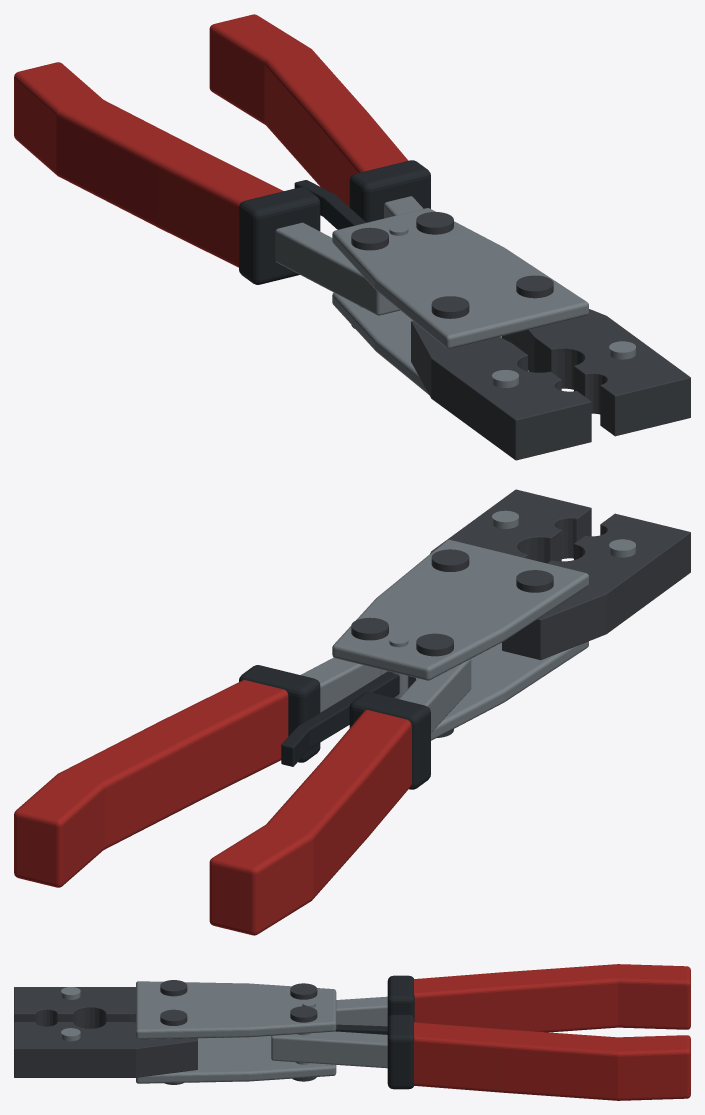
The model's file is full.glb.
3 renders of one model, top to bottom at view 1: azimuth 30°, elevation 25°; view 2: azimuth 150°, elevation 25°; view 3: azimuth 270°, elevation 25°, orthographic. The views are drawn at different scales.
Visible parts, largest first — view 1: Curved red grip -1, Curved red grip 1, Layered compound link cheek 0.009, Fixed two-profile die jaw -1, Fixed two-profile die jaw 1, Finger stop -1, Long metal handle -1, Finger stop 1, Layered compound link cheek -0.009, Narrow dark inner lever, Round pivot retaining head (0, 0.012), Round pivot retaining head (1, 0.012) (+2 smaller); view 2: Curved red grip 1, Curved red grip -1, Layered compound link cheek 0.009, Fixed two-profile die jaw -1, Fixed two-profile die jaw 1, Layered compound link cheek -0.009, Narrow dark inner lever, Finger stop -1, Finger stop 1, Long metal handle -1, Long metal handle 1, Round pivot retaining head (1, 0.012) (+3 smaller); view 3: Curved red grip 1, Curved red grip -1, Layered compound link cheek 0.009, Fixed two-profile die jaw 1, Layered compound link cheek -0.009, Fixed two-profile die jaw -1, Long metal handle 1, Finger stop 1, Long metal handle -1, Finger stop -1, Narrow dark inner lever, Round pivot retaining head (2, 0.012) (+5 smaller).
Boxes of the visible parts, x1,y1,x2,y2 form: Curved red grip -1: [14, 62, 283, 267]; Curved red grip 1: [209, 14, 408, 206]; Layered compound link cheek 0.009: [332, 208, 588, 348]; Fixed two-profile die jaw -1: [411, 321, 591, 460]; Fixed two-profile die jaw 1: [502, 309, 690, 436]; Finger stop -1: [239, 187, 320, 284]; Long metal handle -1: [275, 222, 400, 315]; Finger stop 1: [349, 160, 430, 222]; Layered compound link cheek -0.009: [332, 292, 528, 394]; Narrow dark inner lever: [294, 180, 366, 229]; Round pivot retaining head (0, 0.012): [431, 296, 469, 318]; Round pivot retaining head (1, 0.012): [516, 275, 553, 298]; Curved red grip 1: [14, 680, 288, 887]; Curved red grip -1: [209, 710, 411, 935]; Layered compound link cheek 0.009: [332, 539, 588, 680]; Fixed two-profile die jaw -1: [502, 513, 690, 660]; Fixed two-profile die jaw 1: [430, 489, 591, 563]; Layered compound link cheek -0.009: [416, 641, 588, 740]; Narrow dark inner lever: [281, 671, 415, 766]; Finger stop -1: [349, 692, 430, 789]; Finger stop 1: [239, 665, 320, 762]; Long metal handle -1: [399, 659, 471, 732]; Long metal handle 1: [300, 657, 387, 712]; Round pivot retaining head (1, 0.012): [431, 549, 469, 571]; Curved red grip 1: [414, 1022, 690, 1100]; Curved red grip -1: [414, 964, 690, 1032]; Layered compound link cheek 0.009: [136, 981, 336, 1039]; Fixed two-profile die jaw 1: [14, 1022, 197, 1077]; Layered compound link cheek -0.009: [136, 1036, 336, 1083]; Fixed two-profile die jaw -1: [14, 987, 135, 1028]; Long metal handle 1: [271, 1031, 387, 1068]; Finger stop 1: [387, 1014, 414, 1089]; Long metal handle -1: [336, 996, 387, 1026]; Finger stop -1: [387, 975, 414, 1019]; Narrow dark inner lever: [335, 1024, 459, 1034]; Round pivot retaining head (2, 0.012): [290, 983, 317, 999].
Bounding box in the file's own units: 0.079 × 0.026 × 0.25.
